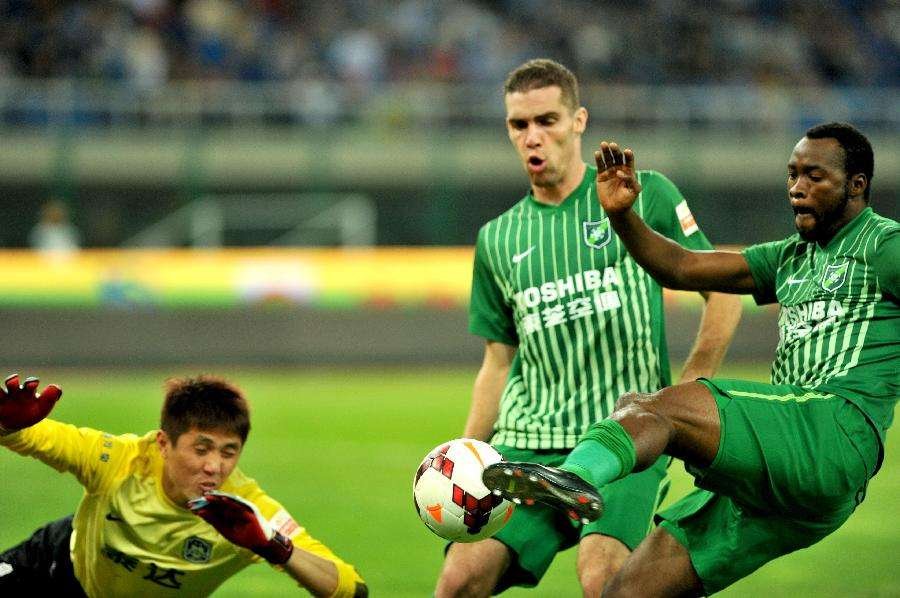football: (411, 436, 513, 543)
